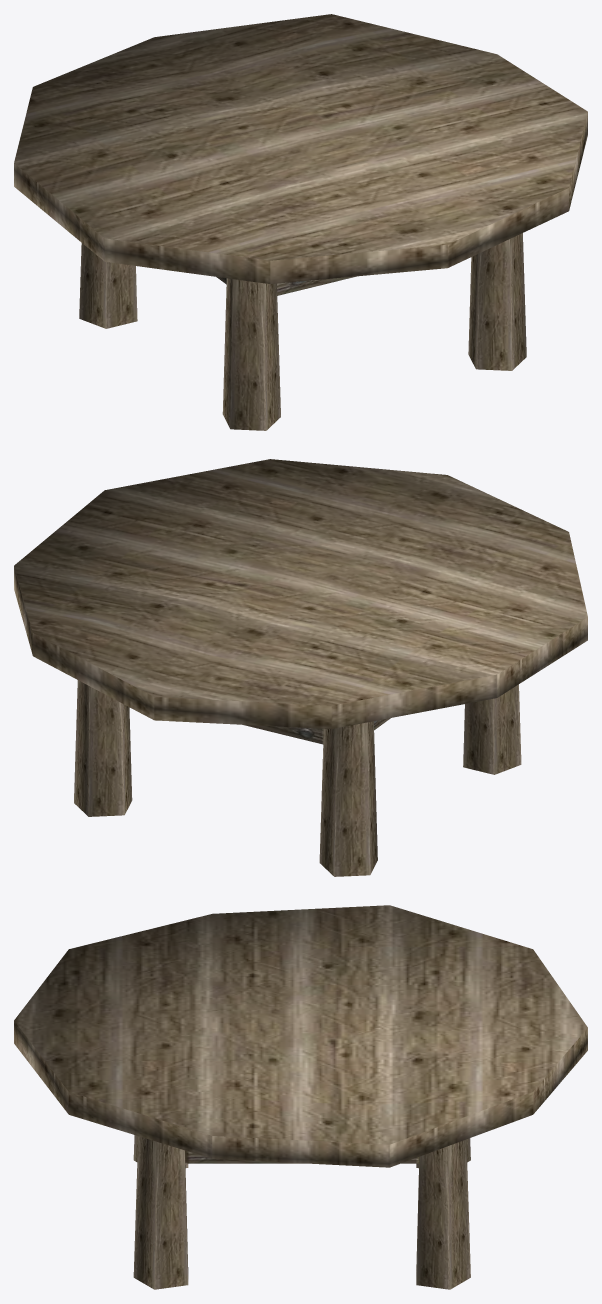
Rendered from table-westfall.glb.
3 views of the same model, one above another, from view 1: azimuth 30°, elevation 25°; view 2: azimuth 150°, elevation 25°; view 3: azimuth 270°, elevation 25° (orthographic). The views are drawn at different scales.
Parts seen in each view (by area): view 1: table-westfall_Geoset0, table-westfall_Geoset1; view 2: table-westfall_Geoset0, table-westfall_Geoset1; view 3: table-westfall_Geoset0, table-westfall_Geoset1.
Part boxes in pixels (bbox=[...]): table-westfall_Geoset0: bbox=[14, 14, 587, 430]; table-westfall_Geoset1: bbox=[216, 276, 356, 295]; table-westfall_Geoset0: bbox=[14, 459, 587, 876]; table-westfall_Geoset1: bbox=[242, 718, 390, 744]; table-westfall_Geoset0: bbox=[14, 905, 587, 1289]; table-westfall_Geoset1: bbox=[185, 1150, 419, 1163].
Size of the model in its own units: 2.7 by 1.07 by 2.83.
Materials: 2 (2 with a texture image).
